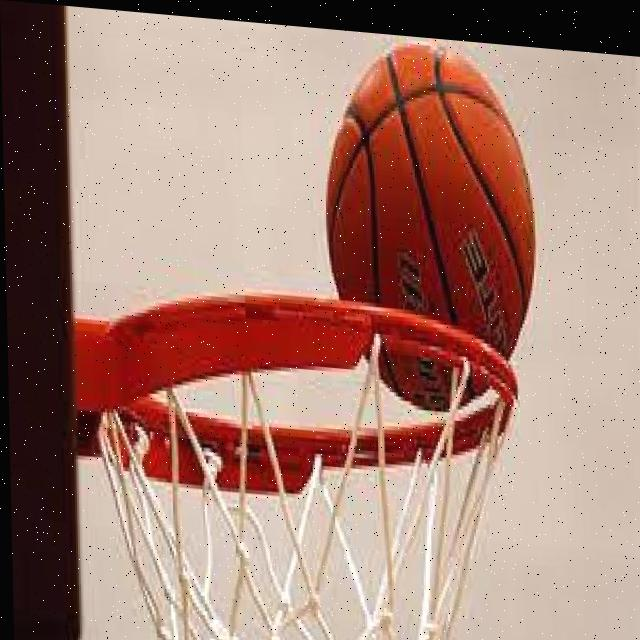rebound_hit: (320, 36, 538, 418)
